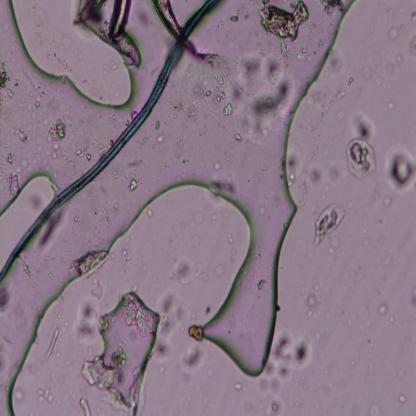Air bubble: (7, 175, 206, 411), (204, 166, 300, 376), (8, 0, 138, 108), (278, 1, 357, 168), (99, 288, 158, 403), (0, 170, 54, 266)
Background material: (306, 50, 366, 123), (230, 56, 291, 127), (262, 331, 310, 387), (155, 284, 187, 358), (348, 108, 380, 180), (258, 1, 308, 45), (310, 200, 347, 248), (174, 72, 208, 122), (79, 348, 116, 392), (383, 145, 416, 194), (368, 44, 404, 86), (39, 208, 71, 249), (78, 295, 100, 345), (73, 249, 108, 279), (26, 76, 48, 113), (180, 341, 206, 370), (42, 322, 60, 362), (0, 62, 19, 99), (261, 390, 285, 415), (44, 118, 66, 144), (382, 18, 402, 46), (287, 147, 301, 186), (71, 144, 96, 165), (211, 76, 229, 105), (302, 289, 319, 316), (3, 172, 20, 198), (34, 386, 56, 406), (171, 262, 193, 282), (318, 1, 347, 16), (90, 278, 106, 305), (102, 200, 120, 224), (226, 226, 238, 261), (0, 284, 14, 310), (212, 253, 226, 279), (125, 156, 148, 171), (12, 125, 30, 144), (309, 166, 325, 187), (12, 381, 27, 403), (154, 121, 168, 144), (403, 39, 416, 63), (189, 322, 203, 343), (188, 230, 204, 246), (375, 299, 389, 316), (254, 276, 268, 293), (366, 399, 381, 414), (402, 9, 416, 25), (79, 396, 90, 416), (221, 102, 233, 119), (232, 130, 246, 142), (129, 180, 140, 192), (398, 394, 408, 406), (144, 206, 154, 218), (7, 152, 15, 165), (233, 382, 243, 392), (204, 302, 210, 315), (384, 202, 393, 208)
Microfibre: (0, 0, 219, 282)
Natural material: (75, 1, 144, 67), (153, 0, 185, 44)
